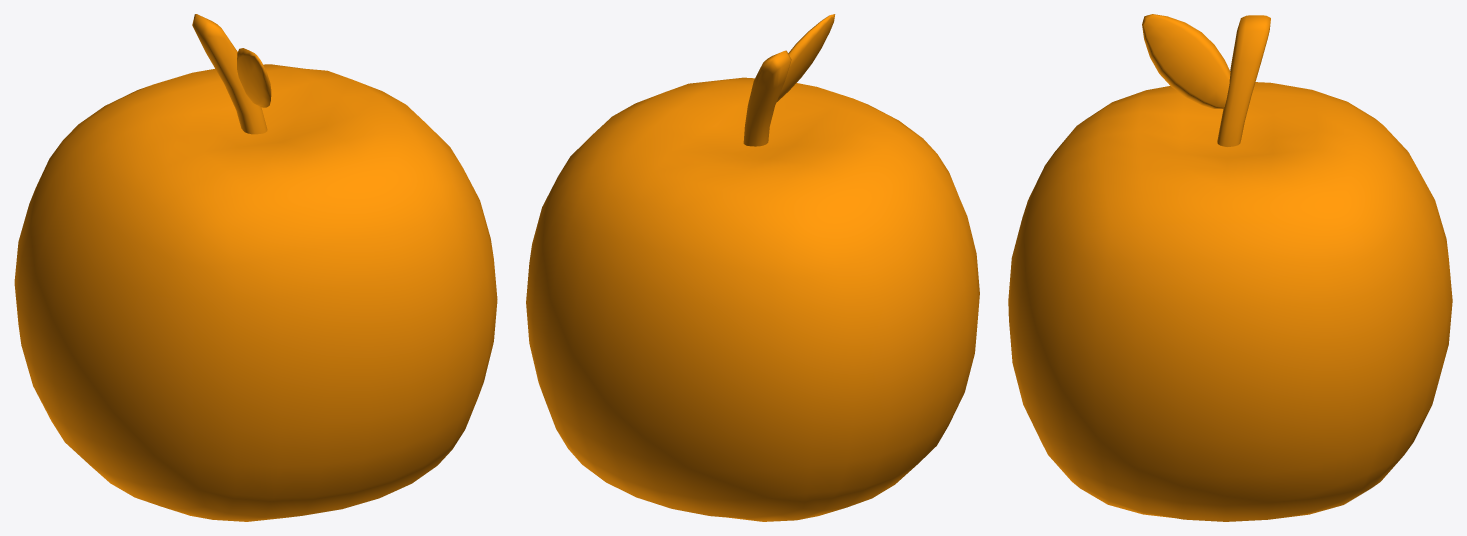
The model's file is apple_golden.fbx.
3 renders of one model, left to right at view 1: azimuth 30°, elevation 25°; view 2: azimuth 150°, elevation 25°; view 3: azimuth 270°, elevation 25°, orthographic. The views are drawn at different scales.
Visible parts, largest first — view 1: apple_standart, apple_standart.001; view 2: apple_standart, apple_standart.001; view 3: apple_standart, apple_standart.001.
Boxes of the visible parts, box(x1,y1,x2,y2) form: apple_standart: box(14, 64, 497, 521); apple_standart.001: box(192, 14, 271, 134); apple_standart: box(526, 77, 979, 521); apple_standart.001: box(743, 14, 835, 146); apple_standart: box(1008, 82, 1452, 521); apple_standart.001: box(1142, 14, 1270, 146).
Bounding box in the file's own units: 56.5 × 59.17 × 54.94.
